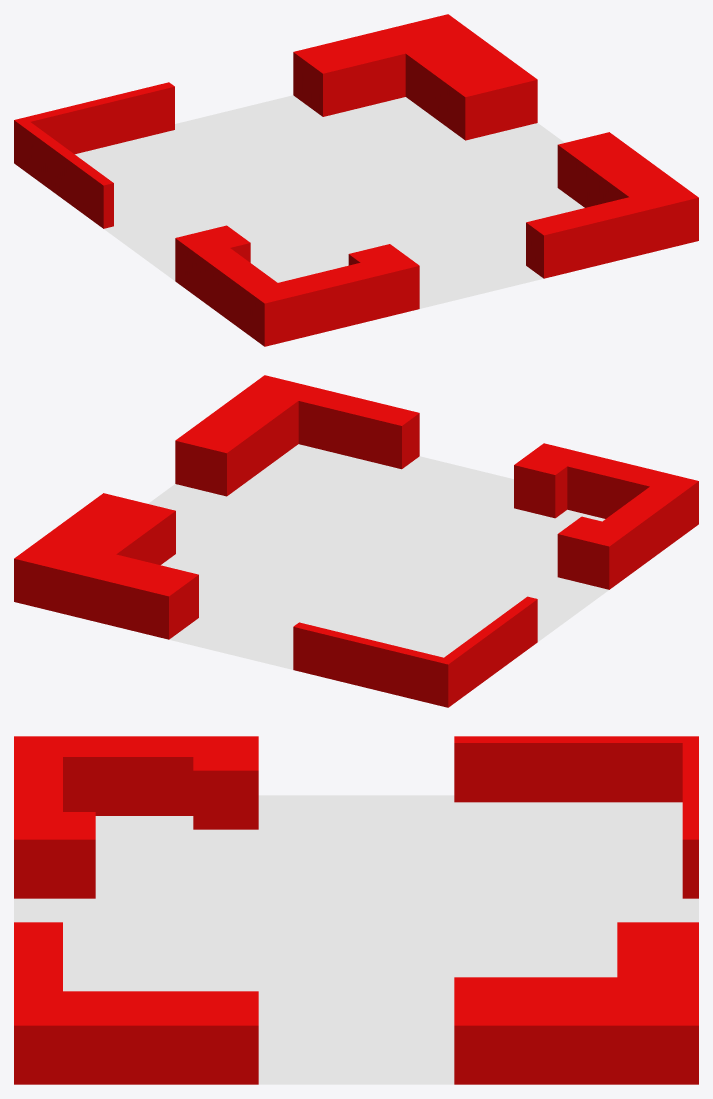
File: Block1.fbx
3 views of the same model, one above another, from view 1: azimuth 30°, elevation 25°; view 2: azimuth 150°, elevation 25°; view 3: azimuth 270°, elevation 25° (orthographic). The views are drawn at different scales.
Visible parts, largest first — view 1: Plane, Building_2, Building_4, Building_3, Building_1; view 2: Plane, Building_2, Building_3, Building_4, Building_1; view 3: Plane, Building_2, Building_4, Building_3, Building_1.
Boxes of the visible parts, x1,y1,x2,y2 form: Plane: [75, 95, 584, 308]; Building_2: [293, 14, 537, 140]; Building_4: [175, 225, 419, 346]; Building_3: [526, 132, 698, 278]; Building_1: [14, 82, 174, 228]; Plane: [148, 444, 608, 669]; Building_2: [14, 493, 198, 639]; Building_3: [175, 375, 419, 496]; Building_4: [514, 443, 698, 589]; Building_1: [293, 596, 537, 707]; Plane: [14, 795, 698, 1084]; Building_2: [454, 922, 698, 1084]; Building_4: [14, 736, 258, 898]; Building_3: [14, 922, 258, 1084]; Building_1: [454, 736, 698, 898].
Bounding box in the file's own units: 420 × 40 × 420.
